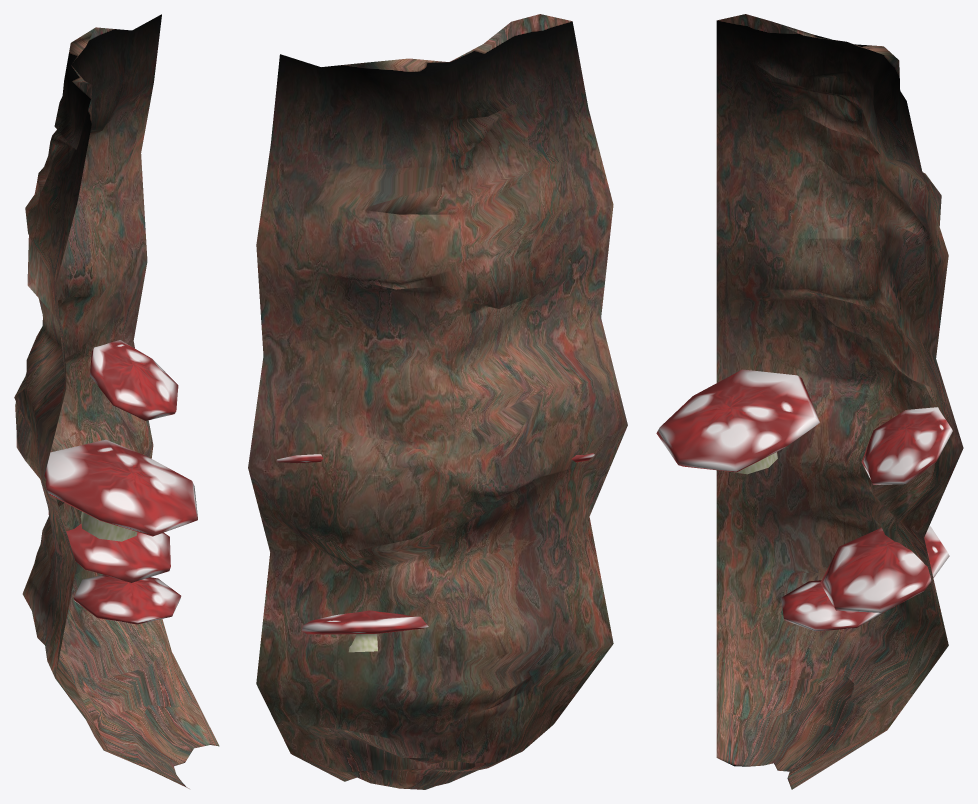
File: cave_shrooms_concave.glb
3 renders of one model, left to right at view 1: azimuth 30°, elevation 25°; view 2: azimuth 150°, elevation 25°; view 3: azimuth 270°, elevation 25°, orthographic. The views are drawn at different scales.
Parts seen in each view (by area): view 1: cave_concave_shrooms-col; view 2: cave_concave_shrooms-col; view 3: cave_concave_shrooms-col.
Boxes of the visible parts, left/top/right/bottom form: cave_concave_shrooms-col: left=14, top=14, right=219, bottom=788; cave_concave_shrooms-col: left=248, top=14, right=627, bottom=789; cave_concave_shrooms-col: left=656, top=14, right=963, bottom=789.
Bounding box in the file's own units: 1.41 × 4.15 × 1.63.
2 materials, 2 textured.
